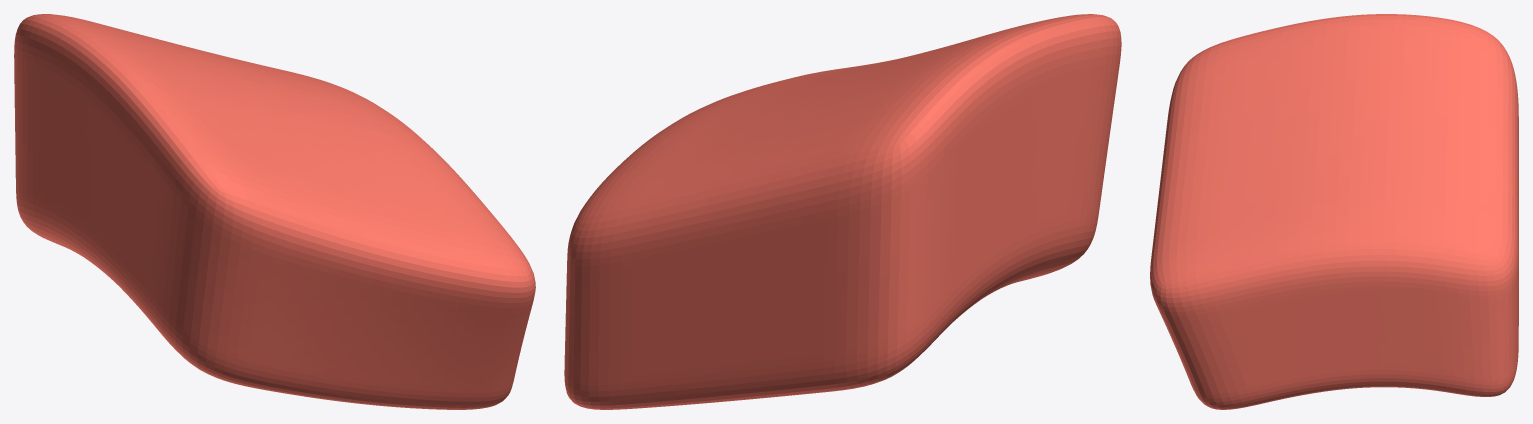
3 views of the same model, side by side, from view 1: azimuth 30°, elevation 25°; view 2: azimuth 150°, elevation 25°; view 3: azimuth 270°, elevation 25° (orthographic). The views are drawn at different scales.
Visible parts, largest first — view 1: waves_1.041; view 2: waves_1.041; view 3: waves_1.041.
Boxes of the visible parts, bbox=[...] form: waves_1.041: bbox=[14, 14, 535, 409]; waves_1.041: bbox=[564, 14, 1121, 409]; waves_1.041: bbox=[1150, 14, 1518, 409].
Size of the model in its own units: 30.41 by 30.65 by 36.61.
